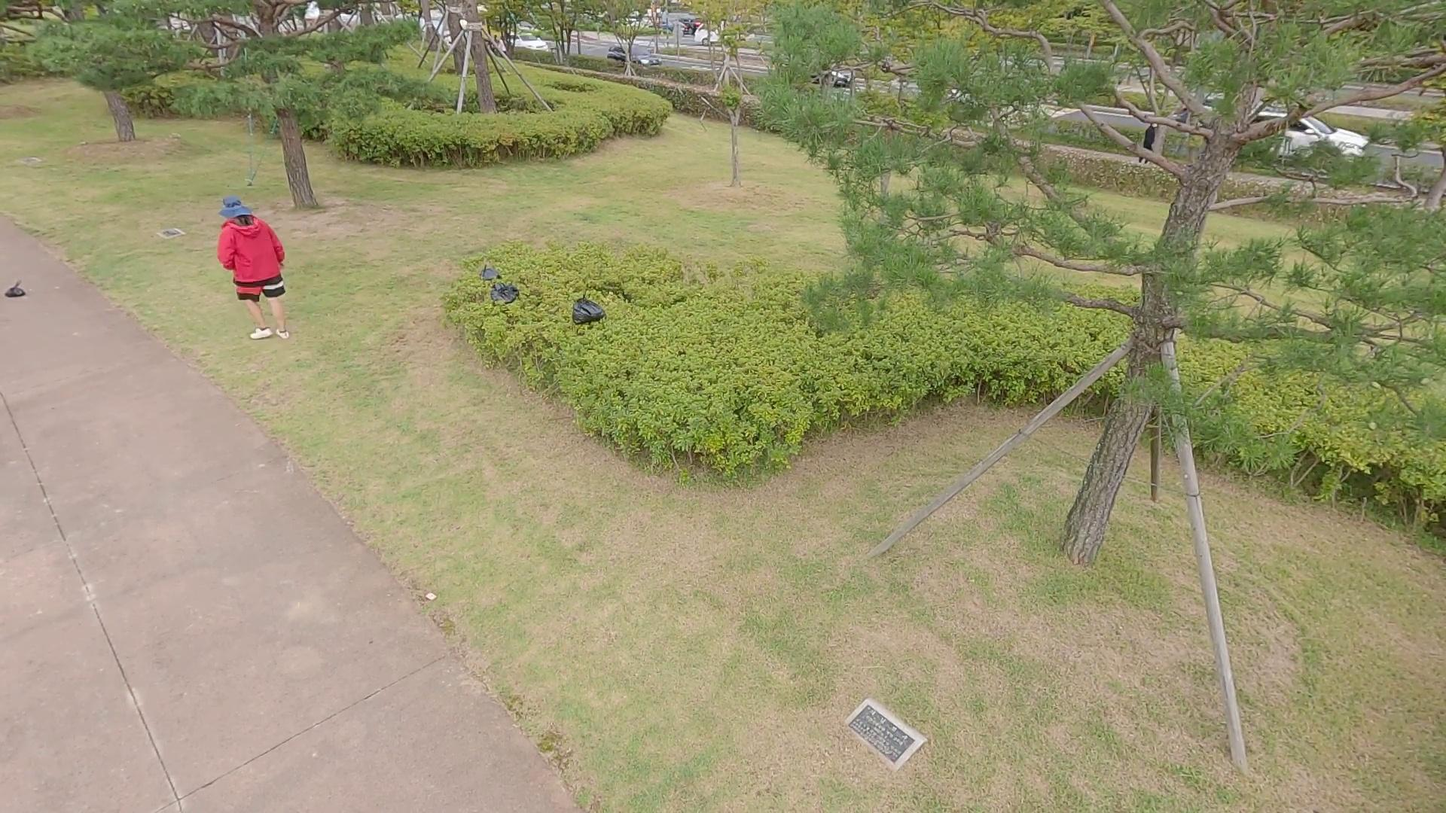person: (213, 190, 292, 341)
trash: (567, 293, 605, 325), (488, 279, 521, 308), (475, 265, 503, 285), (4, 280, 26, 301)
